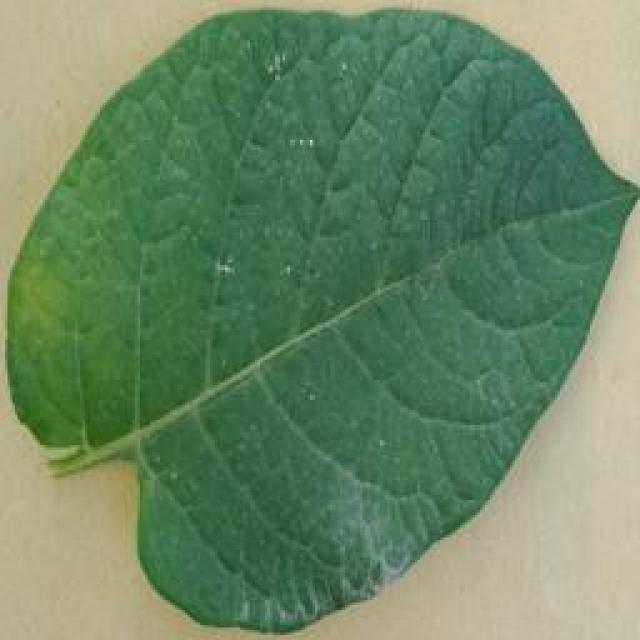Potato_Healthy: (7, 7, 633, 634)
